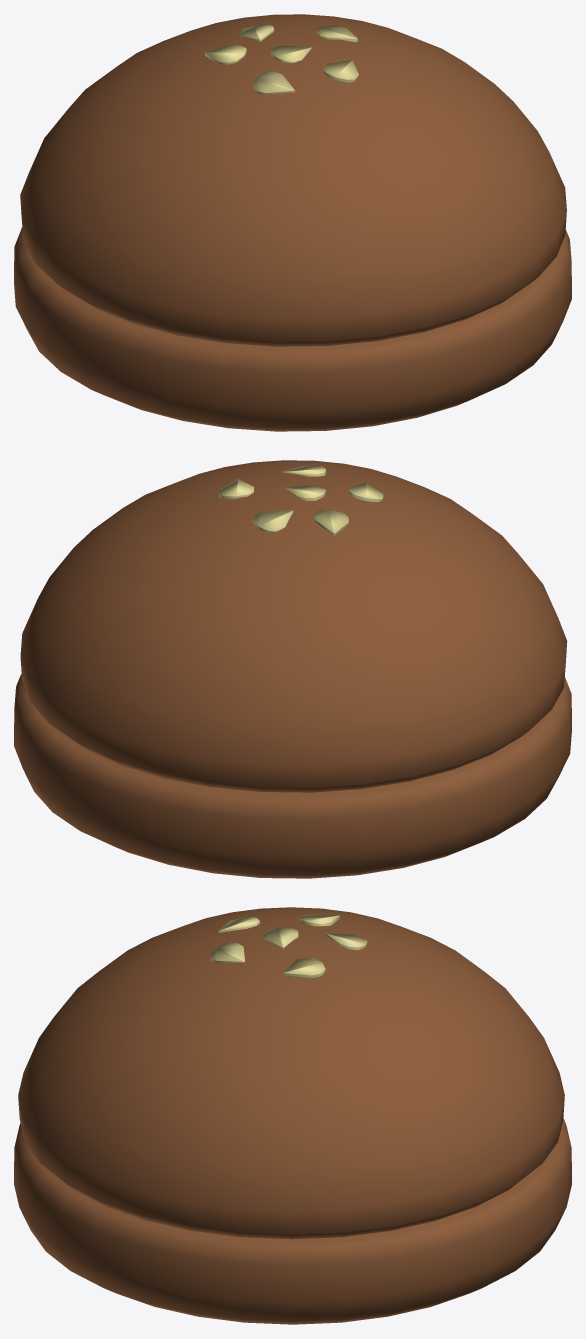
Rendered from BurgerBuns.fbx.
3 views of the same model, one above another, from view 1: azimuth 30°, elevation 25°; view 2: azimuth 150°, elevation 25°; view 3: azimuth 270°, elevation 25° (orthographic).
Parts seen in each view (by area): view 1: BurgerBun; view 2: BurgerBun; view 3: BurgerBun.
Boxes of the visible parts, <box> form: BurgerBun: <box>14,14,571,431</box>; BurgerBun: <box>14,460,571,878</box>; BurgerBun: <box>14,907,571,1324</box>.
Size of the model in its own units: 125 by 69.62 by 125.
